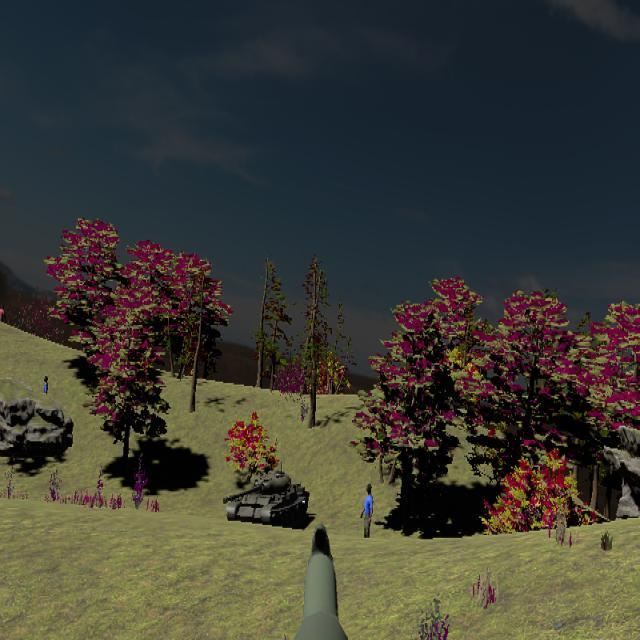Human: (360, 484, 374, 552)
Tank: (223, 469, 311, 532)
